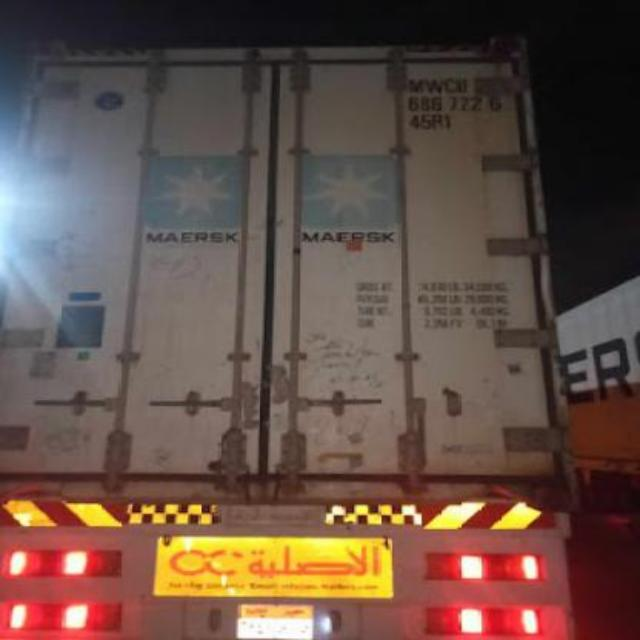2: (458, 94, 470, 118), (468, 93, 480, 113)
6: (486, 92, 506, 115), (430, 93, 446, 113), (406, 94, 419, 112)
7: (450, 92, 460, 116)
8: (420, 94, 432, 112)
C: (442, 74, 456, 96)
M: (408, 75, 426, 95)
U: (454, 73, 468, 97)
W: (422, 74, 442, 96)
